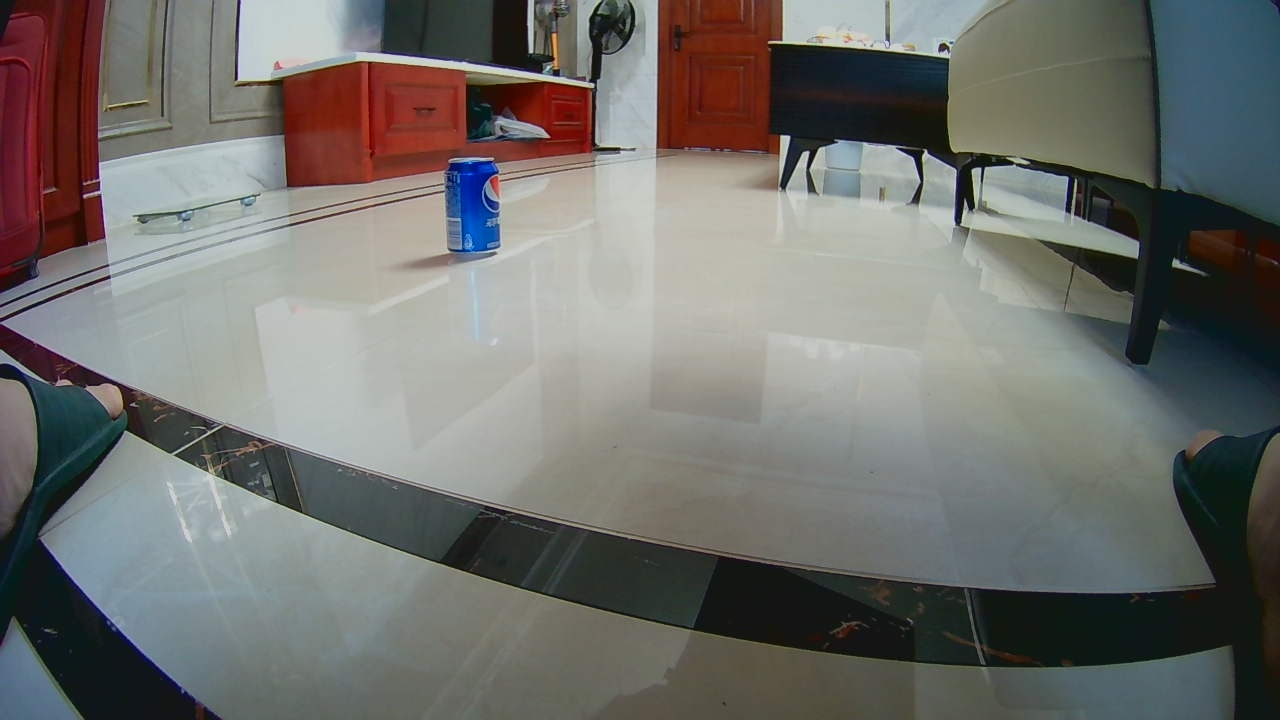pessi: (442, 161, 500, 258)
